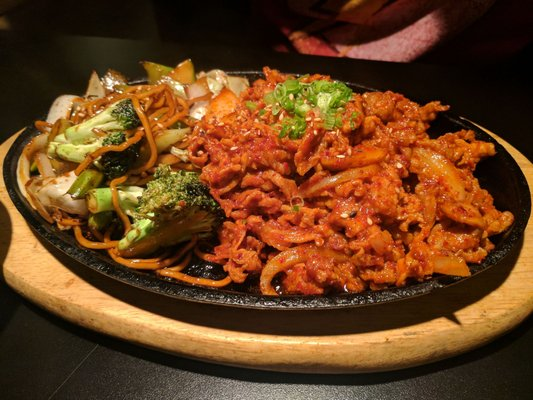curry: (117, 165, 225, 260), (269, 78, 355, 136)
